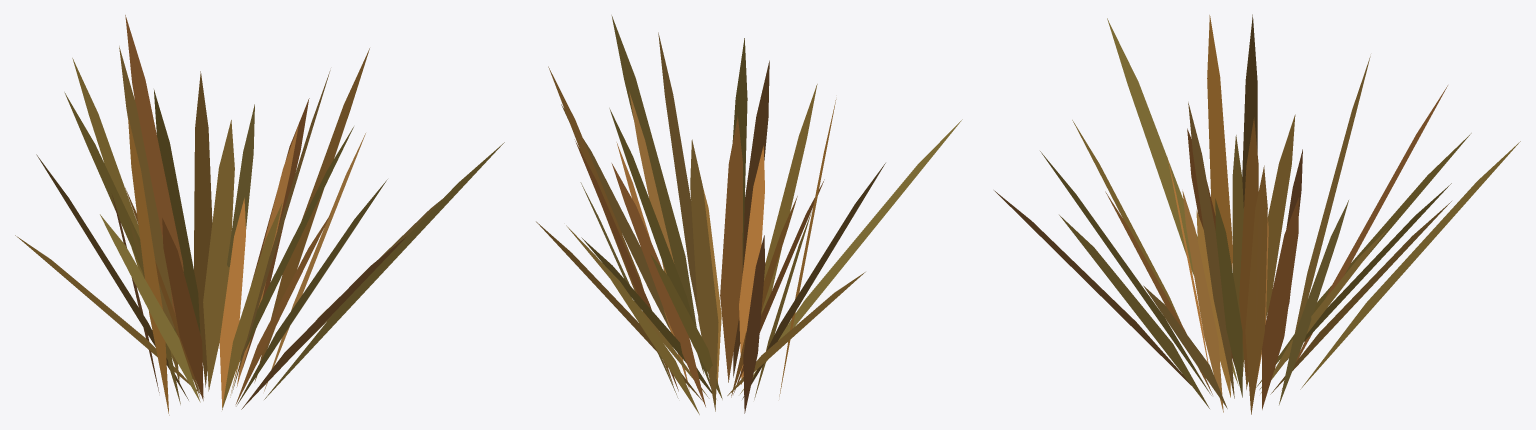
File: SM_DryGrass.fbx
3 views of the same model, side by side, from view 1: azimuth 30°, elevation 25°; view 2: azimuth 150°, elevation 25°; view 3: azimuth 270°, elevation 25° (orthographic). The views are drawn at different scales.
Parts seen in each view (by area): view 1: SM_DryGrass; view 2: SM_DryGrass; view 3: SM_DryGrass.
Part boxes in pixels (x1=…): SM_DryGrass: x1=15, y1=15, x2=504, y2=415; SM_DryGrass: x1=536, y1=15, x2=962, y2=414; SM_DryGrass: x1=994, y1=14, x2=1520, y2=414.
Bounding box in the file's own units: 0.6243 × 0.4989 × 0.7076.
